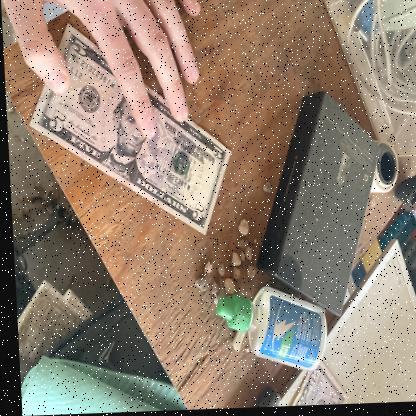five-front: (25, 19, 230, 237)
